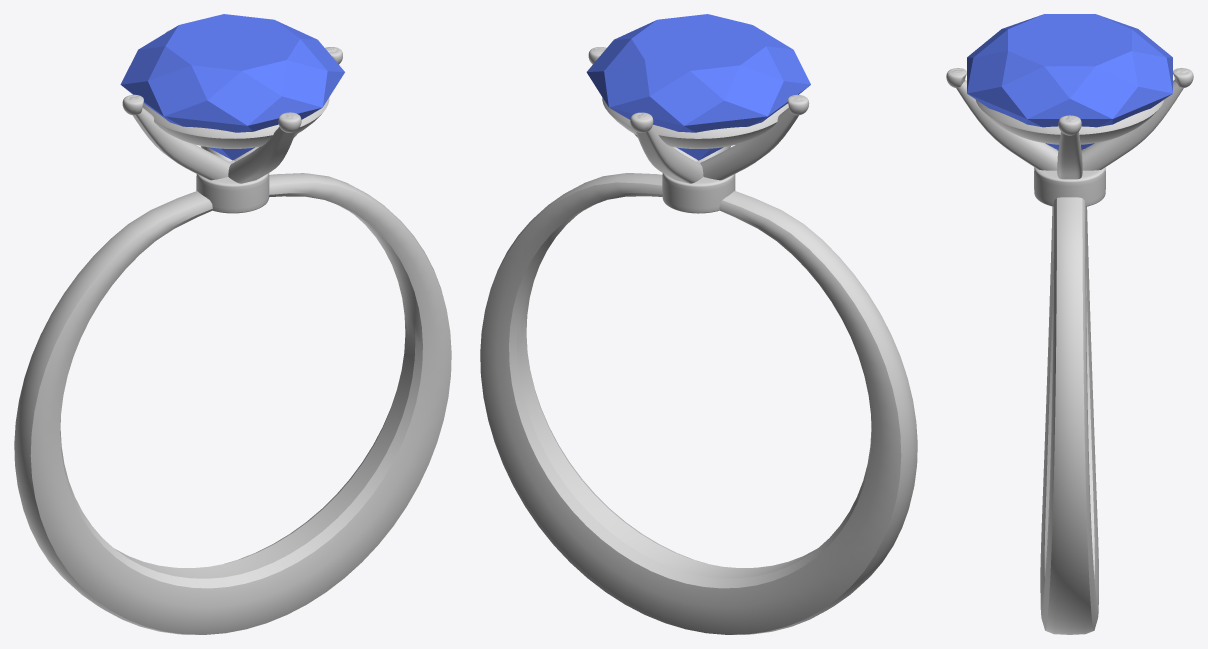
The model's file is Cincin.fbx.
3 views of the same model, side by side, from view 1: azimuth 30°, elevation 25°; view 2: azimuth 150°, elevation 25°; view 3: azimuth 270°, elevation 25° (orthographic).
Visible parts, largest first — view 1: Circle.001, Gem, Sphere, Circle, Cylinder; view 2: Circle.001, Gem, Sphere, Circle, Cylinder; view 3: Circle.001, Gem, Sphere, Circle, Cylinder.
Boxes of the visible parts, x1,y1,x2,y2 form: Circle.001: (14,173,451,634); Gem: (120,14,344,160); Sphere: (122,30,342,183); Circle: (143,98,329,148); Cylinder: (196,160,269,213); Circle.001: (480,173,917,634); Gem: (586,14,810,160); Sphere: (588,30,809,183); Circle: (602,97,788,148); Cylinder: (662,161,735,213); Circle.001: (1040,197,1098,634); Gem: (967,14,1172,149); Sphere: (946,68,1193,179); Circle: (976,100,1163,144); Cylinder: (1034,167,1105,206).
Bounding box in the file's own units: 78.26 × 102 × 39.83.
